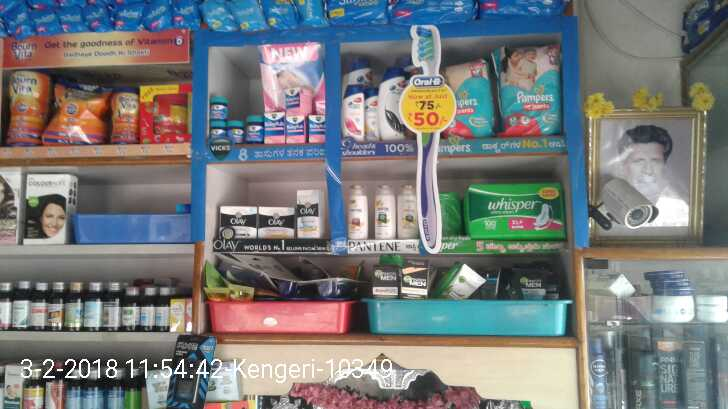beauty: (378, 66, 407, 144), (295, 187, 322, 238), (219, 207, 258, 240), (374, 180, 396, 237), (347, 182, 368, 241), (343, 86, 365, 140), (258, 206, 295, 238), (398, 183, 417, 236), (363, 87, 380, 140)
pharmacy: (465, 178, 569, 240), (494, 41, 561, 137), (442, 59, 498, 138), (262, 112, 287, 145), (284, 115, 306, 143), (245, 114, 265, 144), (307, 114, 326, 142), (208, 95, 229, 120), (227, 118, 245, 145), (284, 86, 305, 109), (208, 120, 228, 143)
